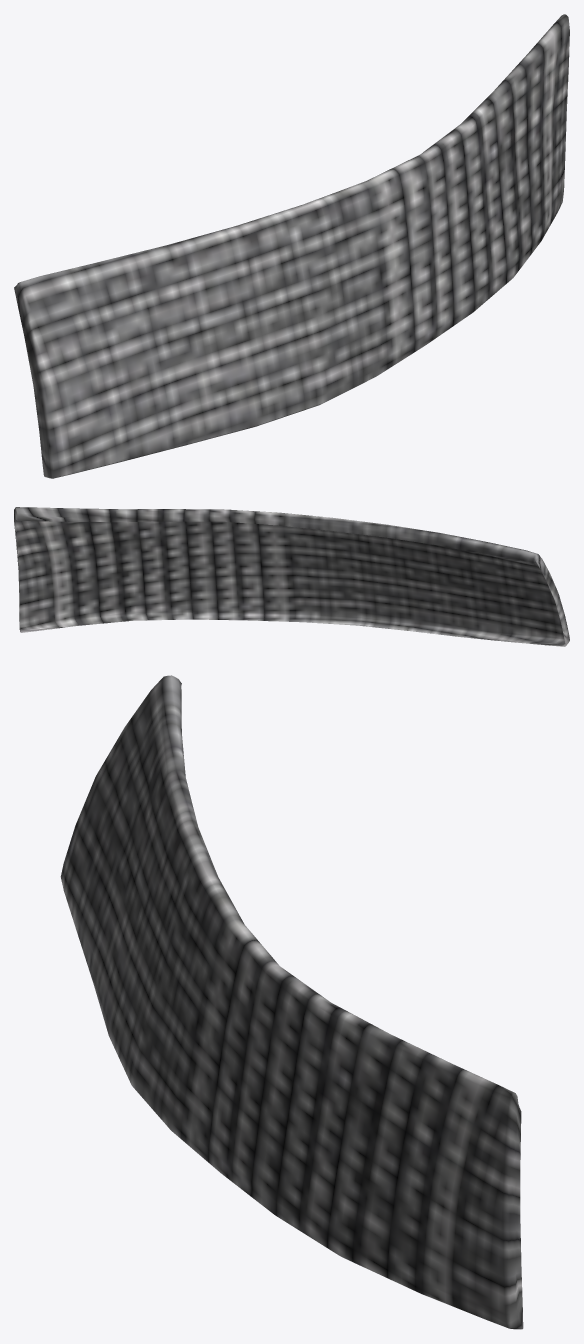
The model's file is upper_Normal_pocket.glb.
3 renders of one model, top to bottom at view 1: azimuth 30°, elevation 25°; view 2: azimuth 150°, elevation 25°; view 3: azimuth 270°, elevation 25°, orthographic. The views are drawn at different scales.
Visible parts, largest first — view 1: upper_Normal_pocket; view 2: upper_Normal_pocket; view 3: upper_Normal_pocket.
Part boxes in pixels (bbox=[...]): upper_Normal_pocket: bbox=[14, 14, 569, 478]; upper_Normal_pocket: bbox=[14, 507, 569, 646]; upper_Normal_pocket: bbox=[60, 675, 523, 1329].
Size of the model in its own units: 0.0125 by 0.00332 by 0.00564.
1 material, 1 textured.
